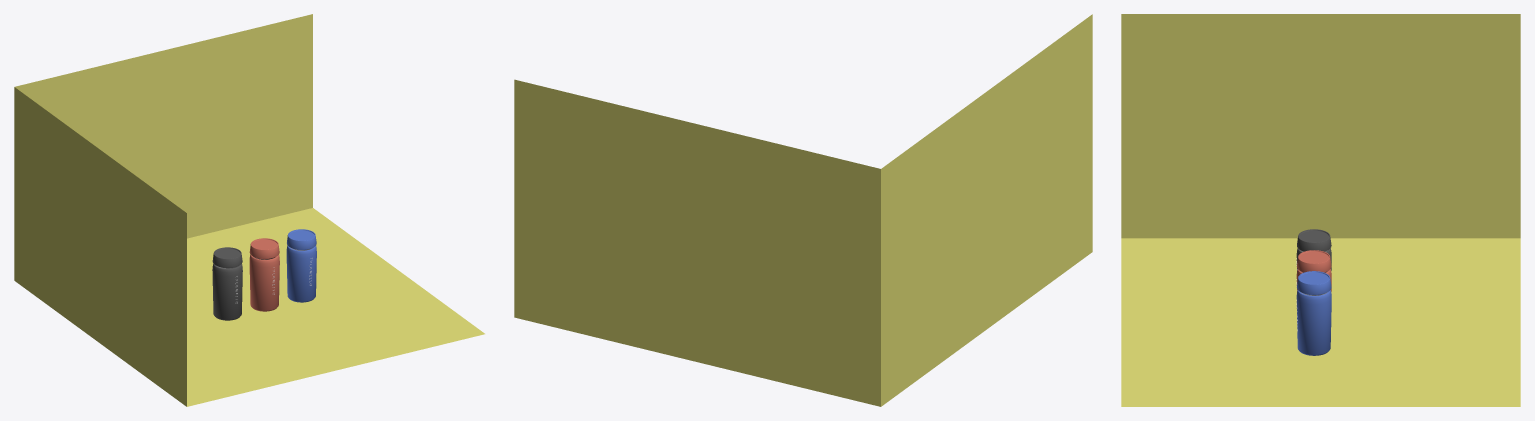
File: thermalflask.glb
3 renders of one model, left to right at view 1: azimuth 30°, elevation 25°; view 2: azimuth 150°, elevation 25°; view 3: azimuth 270°, elevation 25°, orthographic. The views are drawn at different scales.
Parts seen in each view (by area): view 1: Plane, Text.002, Text.003, Text, Cylinder.001, Cylinder.003, Cylinder.005; view 2: Plane; view 3: Plane, Text.003, Cylinder.005, Cylinder.001, Cylinder.003.
Boxes of the visible parts, box(x1,y1,x2,y2) form: Plane: box(14, 14, 484, 406); Text.002: box(249, 254, 279, 311); Text.003: box(286, 245, 316, 302); Text: box(212, 264, 242, 320); Cylinder.001: box(212, 247, 242, 268); Cylinder.003: box(249, 238, 279, 259); Cylinder.005: box(287, 229, 316, 250); Plane: box(514, 14, 1092, 406); Plane: box(1121, 14, 1520, 406); Text.003: box(1296, 290, 1331, 355); Cylinder.005: box(1297, 271, 1331, 295); Cylinder.001: box(1297, 229, 1331, 251); Cylinder.003: box(1297, 250, 1331, 272).
Size of the model in its own units: 24.19 by 15 by 24.19.
